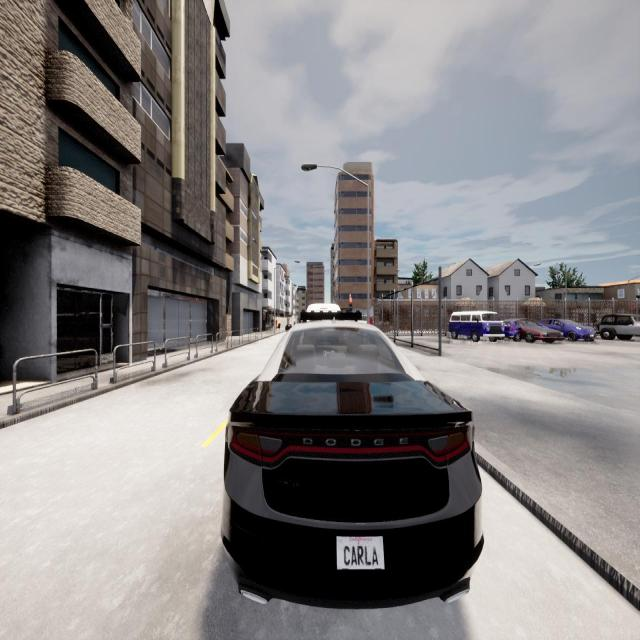Pedestrian: (276, 319, 278, 330), (370, 314, 372, 325)
Vehicle: (221, 319, 482, 607), (450, 311, 504, 342), (506, 318, 564, 342), (542, 319, 596, 341), (598, 314, 640, 339), (306, 304, 341, 314)
traffic_light: (349, 298, 352, 307)
